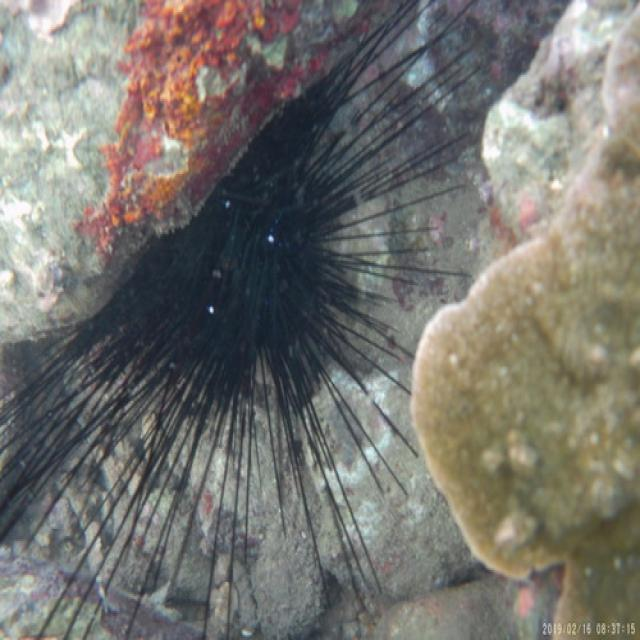Urchin: (17, 15, 494, 602)
